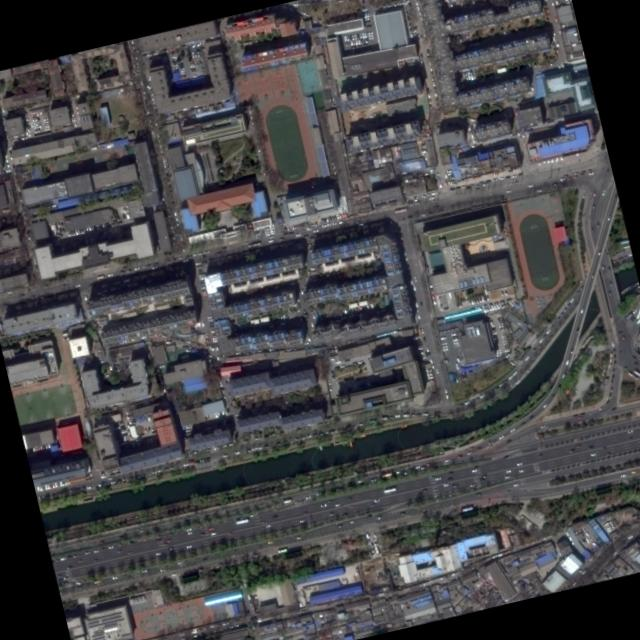large-vehicle: (233, 517, 248, 524), (381, 485, 396, 492), (246, 240, 260, 247), (393, 206, 406, 213), (460, 504, 472, 511), (631, 368, 640, 377), (275, 547, 286, 553), (380, 471, 391, 476), (281, 497, 290, 502), (95, 274, 103, 279), (214, 344, 218, 350)
small-vehicle: (567, 446, 575, 453), (370, 496, 379, 502), (95, 539, 105, 544), (504, 436, 511, 443), (527, 412, 534, 419), (625, 369, 632, 376), (454, 453, 462, 459), (248, 511, 256, 517), (630, 353, 637, 359), (604, 524, 611, 530), (601, 520, 608, 526), (610, 522, 617, 528), (493, 302, 499, 309), (508, 300, 514, 307), (544, 327, 550, 334), (454, 356, 460, 363), (429, 189, 436, 195), (496, 433, 503, 439), (508, 426, 515, 432), (541, 401, 547, 408), (265, 538, 272, 544), (294, 533, 301, 539), (189, 41, 196, 47), (329, 157, 335, 164), (473, 491, 481, 496), (372, 541, 377, 549), (525, 182, 533, 187), (443, 392, 448, 400), (433, 475, 441, 480), (420, 411, 428, 416), (514, 460, 522, 465), (220, 620, 228, 625), (70, 552, 78, 557), (193, 260, 201, 265), (318, 501, 326, 506), (632, 360, 638, 366), (608, 517, 614, 523), (580, 526, 586, 532), (605, 527, 611, 533), (519, 419, 525, 425), (548, 391, 554, 397), (424, 461, 430, 467), (537, 337, 543, 343), (523, 354, 529, 360), (506, 374, 512, 380), (626, 533, 632, 539), (597, 404, 603, 410), (468, 444, 474, 450), (465, 449, 471, 455), (497, 381, 503, 387), (182, 422, 188, 428), (98, 357, 104, 363), (6, 144, 12, 150), (442, 179, 447, 186), (574, 325, 579, 332), (568, 346, 573, 353), (451, 336, 458, 341), (609, 520, 616, 525), (599, 445, 606, 450), (586, 444, 593, 449), (501, 453, 508, 458), (371, 530, 376, 537), (435, 575, 442, 580), (545, 533, 552, 538), (599, 263, 604, 270), (419, 193, 426, 198), (439, 340, 446, 345), (424, 345, 429, 352), (412, 275, 417, 282), (509, 173, 516, 178), (415, 3, 420, 10), (538, 423, 545, 428), (469, 467, 476, 472), (462, 399, 469, 404), (511, 481, 518, 486), (347, 518, 354, 523), (206, 525, 213, 530), (184, 543, 191, 548), (184, 526, 191, 531), (213, 444, 220, 449), (175, 560, 182, 565), (213, 621, 220, 626), (242, 581, 247, 588), (158, 566, 165, 571), (181, 461, 188, 466), (183, 427, 190, 432), (106, 363, 111, 370), (126, 539, 133, 544), (58, 555, 65, 560), (82, 549, 89, 554), (106, 543, 113, 548), (114, 548, 121, 553), (110, 574, 117, 579), (253, 435, 260, 440), (201, 289, 206, 296), (344, 495, 351, 500), (347, 503, 354, 508), (369, 476, 376, 481), (292, 498, 299, 503), (337, 218, 344, 223), (188, 59, 193, 66), (277, 235, 284, 240), (202, 248, 209, 253), (577, 411, 585, 415), (438, 335, 446, 339), (395, 0, 403, 4), (208, 530, 216, 534), (188, 628, 196, 632), (120, 338, 128, 342), (75, 558, 83, 562), (437, 181, 442, 187), (579, 168, 585, 173), (622, 364, 628, 369), (606, 289, 611, 295), (596, 248, 601, 254), (486, 305, 491, 311), (550, 35, 555, 41), (488, 304, 494, 309), (584, 530, 589, 536), (583, 536, 588, 542), (490, 553, 496, 558), (572, 528, 577, 534), (496, 551, 502, 556), (539, 535, 545, 540), (431, 299, 436, 305), (474, 445, 480, 450), (486, 439, 492, 444), (468, 298, 473, 304), (555, 383, 560, 389), (632, 374, 638, 379), (604, 398, 609, 404), (559, 372, 564, 378), (491, 303, 496, 309), (498, 302, 503, 308), (511, 369, 516, 375), (609, 340, 614, 346), (426, 374, 432, 379), (427, 357, 432, 363), (415, 312, 420, 318), (459, 183, 465, 188), (605, 214, 610, 220), (600, 189, 605, 195), (442, 387, 447, 393), (417, 14, 422, 20), (386, 2, 392, 7), (441, 481, 447, 486), (468, 482, 474, 487), (419, 211, 425, 216), (443, 457, 449, 462), (478, 393, 484, 398), (503, 473, 509, 478), (516, 467, 522, 472), (154, 533, 160, 538), (198, 530, 204, 535), (226, 530, 232, 535), (178, 630, 184, 635), (125, 267, 131, 272), (73, 282, 79, 287), (82, 294, 87, 300), (150, 469, 156, 474), (119, 428, 125, 433), (121, 433, 127, 438), (42, 442, 47, 448), (96, 481, 102, 486), (75, 227, 80, 233), (336, 522, 342, 527), (217, 380, 222, 386), (325, 378, 330, 384), (227, 441, 233, 446), (308, 265, 314, 270), (285, 346, 291, 351), (233, 349, 239, 354), (264, 522, 270, 527), (333, 501, 339, 506), (233, 449, 239, 454), (176, 58, 182, 63), (299, 9, 305, 14), (332, 168, 337, 174), (353, 219, 360, 223), (620, 333, 624, 340), (449, 483, 456, 487), (450, 571, 457, 575), (364, 531, 368, 538), (445, 476, 452, 480), (480, 303, 487, 307), (427, 195, 434, 199), (564, 358, 568, 365), (427, 280, 431, 287), (413, 300, 417, 307), (444, 168, 451, 172), (571, 170, 578, 174), (586, 170, 593, 174), (417, 9, 421, 16), (501, 338, 508, 342), (629, 469, 636, 473), (588, 451, 595, 455), (625, 428, 632, 432), (497, 323, 504, 327), (503, 347, 510, 351), (398, 510, 405, 514), (203, 447, 210, 451), (241, 574, 245, 581), (140, 568, 147, 572), (150, 265, 157, 269), (132, 265, 139, 269), (149, 424, 153, 431), (32, 124, 39, 128), (32, 122, 39, 126), (41, 116, 48, 120), (5, 289, 12, 293), (116, 424, 123, 428), (91, 548, 98, 552), (98, 546, 105, 550), (125, 549, 132, 553), (108, 479, 115, 483), (356, 359, 363, 363), (309, 320, 313, 327), (457, 375, 461, 382), (203, 331, 207, 338), (200, 320, 204, 327), (212, 335, 216, 342), (401, 412, 408, 416), (300, 510, 307, 514), (270, 513, 277, 517), (259, 519, 266, 523), (326, 511, 333, 515), (379, 415, 386, 419), (355, 478, 362, 482), (314, 490, 321, 494), (168, 46, 175, 50), (178, 234, 182, 241), (138, 78, 142, 85), (253, 234, 260, 238), (266, 223, 273, 227), (195, 250, 202, 254), (558, 155, 563, 160), (549, 0, 554, 5), (586, 535, 591, 540), (481, 307, 486, 312), (504, 352, 509, 357), (184, 347, 189, 352), (62, 335, 67, 340), (2, 167, 7, 172), (45, 442, 50, 447), (103, 480, 108, 485), (295, 306, 300, 311), (195, 41, 200, 46), (565, 175, 571, 179), (400, 216, 404, 222), (591, 190, 595, 196), (405, 214, 411, 218), (450, 177, 454, 183), (590, 202, 594, 208), (429, 167, 435, 171), (607, 280, 611, 286), (452, 340, 458, 344), (589, 272, 593, 278), (422, 171, 428, 175), (468, 116, 474, 120), (466, 74, 470, 80), (535, 70, 541, 74), (554, 41, 558, 47), (556, 27, 560, 33), (545, 11, 549, 17), (520, 132, 524, 138), (431, 80, 435, 86), (427, 59, 431, 65), (425, 48, 429, 54), (478, 477, 484, 481), (576, 526, 580, 532), (377, 591, 383, 595), (418, 582, 424, 586), (533, 537, 539, 541), (564, 530, 568, 536), (433, 461, 439, 465), (480, 295, 484, 301), (474, 296, 478, 302), (505, 296, 511, 300), (498, 298, 504, 302), (607, 391, 611, 397), (499, 290, 503, 296), (482, 287, 486, 293), (440, 344, 446, 348), (579, 306, 583, 312), (490, 177, 496, 181), (441, 347, 447, 351), (448, 186, 454, 190), (425, 371, 431, 375), (449, 331, 455, 335), (434, 367, 438, 373), (419, 327, 423, 333), (430, 293, 434, 299), (553, 15, 557, 21), (357, 32, 361, 38), (362, 31, 366, 37), (367, 35, 373, 39), (366, 30, 372, 34), (411, 284, 415, 290), (504, 188, 510, 192), (558, 176, 564, 180), (360, 7, 366, 11), (407, 26, 411, 32), (421, 30, 425, 36), (403, 0, 409, 4), (359, 0, 365, 4), (373, 5, 379, 9), (411, 194, 417, 198), (481, 181, 487, 185), (500, 333, 506, 337), (502, 340, 508, 344), (619, 472, 625, 476), (504, 468, 510, 472), (574, 443, 580, 447), (374, 514, 380, 518), (161, 541, 167, 545), (165, 538, 171, 542), (185, 530, 191, 534), (191, 449, 197, 453), (154, 551, 160, 555), (149, 637, 157, 640), (201, 625, 207, 629), (207, 623, 213, 627), (247, 599, 251, 605), (170, 571, 176, 575), (181, 257, 187, 261), (118, 269, 124, 273), (106, 272, 112, 276), (56, 231, 62, 235), (60, 225, 64, 231), (184, 339, 190, 343), (157, 363, 163, 367), (213, 411, 217, 417), (156, 468, 162, 472), (220, 409, 224, 415), (215, 354, 219, 360), (129, 336, 135, 340), (139, 334, 145, 338), (179, 636, 185, 640), (44, 126, 50, 130), (71, 115, 75, 121), (31, 117, 37, 121), (30, 115, 36, 119), (34, 110, 38, 116), (33, 129, 39, 133), (42, 119, 48, 123), (0, 106, 4, 112), (114, 469, 120, 473), (476, 179, 482, 183), (245, 608, 249, 614), (108, 471, 114, 475), (32, 258, 36, 264), (15, 185, 19, 191), (33, 445, 37, 451), (38, 444, 42, 450), (74, 580, 80, 584), (85, 485, 91, 489), (99, 474, 105, 478), (100, 469, 104, 475), (35, 485, 39, 491), (38, 484, 42, 490), (65, 478, 69, 484), (106, 475, 112, 479), (58, 220, 62, 226), (306, 334, 310, 340), (302, 340, 308, 344), (421, 335, 425, 341), (339, 363, 345, 367), (330, 375, 334, 381), (327, 385, 331, 391), (310, 312, 314, 318), (209, 321, 213, 327), (358, 305, 362, 311), (267, 347, 273, 351), (322, 420, 328, 424), (298, 518, 304, 522), (418, 464, 424, 468), (340, 511, 346, 515), (393, 413, 399, 417), (249, 446, 255, 450), (356, 421, 362, 425), (305, 433, 311, 437), (298, 435, 304, 439), (304, 494, 310, 498), (330, 220, 336, 224), (170, 54, 176, 58), (177, 66, 183, 70), (179, 73, 185, 77), (191, 73, 197, 77), (189, 51, 193, 57), (195, 50, 199, 56), (145, 52, 151, 56), (87, 224, 91, 230), (94, 223, 98, 229), (120, 212, 124, 218), (125, 212, 129, 218), (172, 209, 176, 215), (160, 156, 164, 162), (155, 131, 159, 137), (304, 12, 310, 16), (263, 232, 269, 236), (253, 231, 259, 235), (303, 0, 309, 4), (267, 238, 273, 242), (294, 232, 300, 236), (305, 225, 311, 229), (311, 228, 317, 232), (189, 252, 195, 256), (326, 214, 330, 220), (534, 188, 541, 191), (595, 220, 598, 227), (421, 24, 424, 31), (163, 340, 170, 343), (394, 469, 401, 472), (544, 159, 549, 163), (549, 157, 553, 162), (417, 345, 422, 349), (469, 74, 473, 79), (559, 62, 563, 67), (551, 30, 555, 35), (544, 6, 548, 11), (515, 130, 519, 135), (433, 97, 437, 102), (433, 91, 437, 96), (418, 60, 422, 65), (484, 306, 488, 311), (365, 538, 369, 543), (570, 540, 574, 545), (567, 536, 571, 541), (457, 301, 461, 306), (492, 299, 497, 303), (608, 385, 612, 390), (609, 379, 613, 384), (610, 373, 614, 378), (343, 41, 347, 46), (348, 40, 352, 45), (425, 367, 430, 371), (352, 34, 356, 39), (405, 15, 409, 20), (353, 39, 357, 44), (363, 37, 367, 42), (392, 1, 397, 5), (381, 3, 386, 7), (168, 465, 173, 469), (221, 443, 226, 447), (221, 453, 226, 457), (198, 458, 203, 462), (73, 228, 77, 233), (145, 262, 150, 266), (68, 230, 72, 235), (122, 436, 127, 440), (227, 624, 232, 628), (484, 178, 489, 182), (28, 121, 32, 126), (20, 135, 25, 139), (5, 161, 9, 166), (43, 484, 47, 489), (45, 483, 49, 488), (62, 479, 66, 484), (228, 404, 232, 409), (207, 315, 211, 320), (278, 313, 282, 318), (364, 304, 369, 308), (369, 302, 373, 307), (256, 348, 261, 352), (413, 464, 418, 468), (403, 470, 408, 474), (293, 436, 298, 440), (263, 443, 268, 447), (255, 445, 260, 449), (129, 38, 133, 43), (325, 221, 330, 225), (100, 222, 104, 227), (173, 215, 177, 220), (161, 162, 165, 167), (153, 121, 157, 126), (320, 223, 325, 227), (334, 213, 338, 218), (298, 1, 303, 5), (331, 164, 335, 169), (585, 168, 591, 171), (577, 172, 583, 175), (448, 177, 451, 183), (606, 264, 609, 270), (468, 68, 471, 74), (556, 63, 559, 69), (461, 70, 464, 76), (470, 143, 476, 146), (427, 98, 430, 104), (425, 86, 428, 92), (604, 451, 610, 454), (472, 464, 478, 467), (576, 415, 582, 418), (571, 413, 577, 416), (611, 366, 614, 372), (360, 32, 363, 38), (366, 33, 372, 36), (342, 35, 345, 41), (363, 17, 369, 20), (362, 14, 368, 17), (434, 411, 440, 414), (423, 36, 426, 42), (360, 5, 366, 8), (490, 331, 496, 334), (246, 593, 249, 599), (251, 553, 257, 556), (56, 220, 59, 226), (143, 426, 146, 432), (232, 623, 238, 626), (43, 124, 49, 127), (29, 110, 35, 113), (4, 156, 7, 162), (74, 103, 77, 109), (26, 233, 29, 239), (31, 252, 34, 258), (50, 482, 53, 488), (53, 481, 56, 487), (329, 369, 332, 375), (299, 288, 302, 294), (79, 226, 82, 232), (170, 63, 176, 66), (171, 66, 177, 69), (178, 71, 184, 74), (90, 224, 93, 230), (158, 143, 161, 149), (268, 226, 274, 229), (269, 228, 275, 231), (287, 230, 293, 233), (337, 212, 340, 218), (291, 2, 297, 5), (572, 173, 576, 177), (436, 176, 440, 180), (428, 66, 432, 70), (408, 32, 412, 36), (415, 411, 419, 415), (445, 178, 448, 183), (555, 48, 558, 53), (466, 69, 469, 74), (543, 0, 546, 5), (418, 54, 421, 59), (430, 76, 433, 81), (432, 86, 435, 91), (429, 71, 432, 76), (428, 104, 431, 109), (447, 470, 452, 473), (486, 301, 491, 304), (485, 294, 488, 299), (637, 377, 640, 382), (612, 359, 615, 364), (612, 353, 615, 358), (495, 350, 500, 353), (495, 353, 500, 356), (351, 40, 354, 45), (345, 35, 348, 40), (350, 34, 353, 39), (498, 176, 503, 179), (414, 0, 417, 5), (356, 39, 359, 44), (359, 38, 362, 43), (193, 459, 198, 462), (173, 637, 178, 640), (188, 461, 193, 464), (75, 108, 78, 113), (58, 481, 61, 486), (281, 312, 284, 317), (151, 51, 156, 54), (84, 225, 87, 230), (263, 229, 268, 232), (270, 231, 275, 234), (332, 214, 335, 219), (330, 214, 333, 219), (313, 221, 316, 226), (293, 223, 296, 228), (290, 223, 293, 228), (285, 224, 288, 229), (324, 216, 327, 221), (554, 157, 557, 161), (435, 103, 438, 107), (426, 93, 429, 97), (24, 130, 27, 134), (178, 69, 184, 71), (175, 221, 178, 225), (590, 226, 592, 231), (464, 70, 466, 75), (407, 21, 409, 26), (329, 357, 334, 359), (193, 51, 195, 56), (131, 44, 133, 49), (263, 227, 267, 229)
